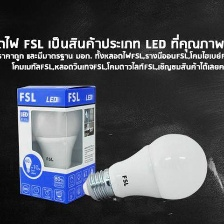carton: (14, 79, 99, 206)
light_bulb: (78, 126, 212, 208), (25, 93, 82, 189)
